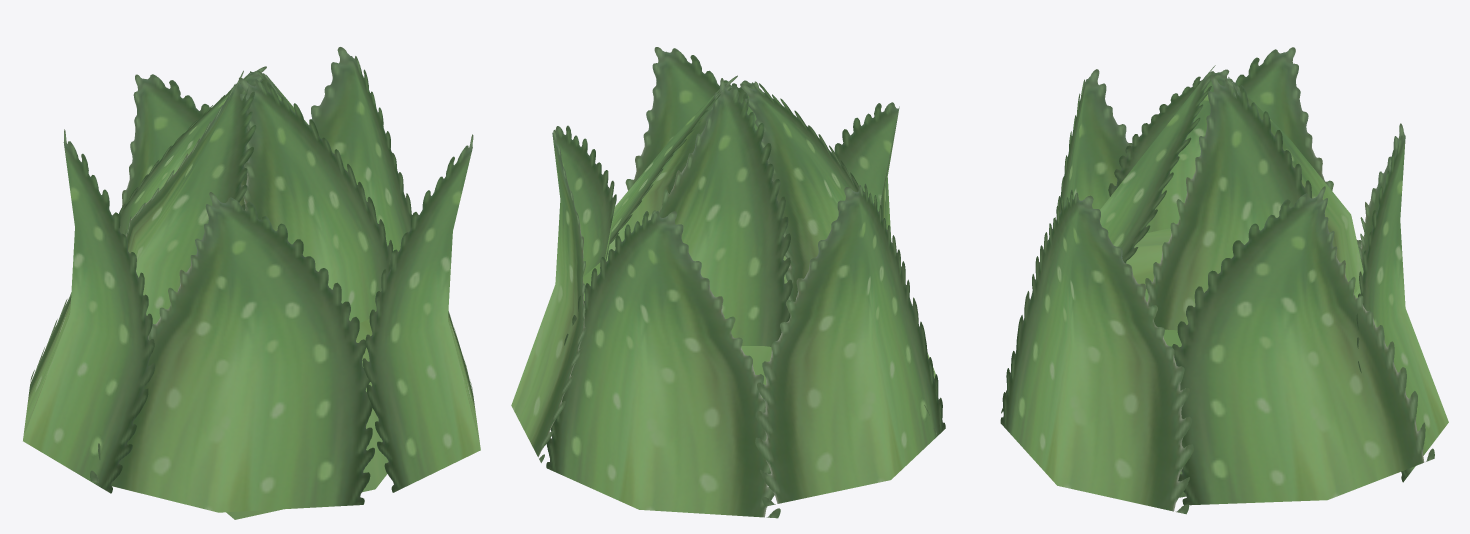
Rendered from SM_Ground_Cactus_B.fbx.
3 renders of one model, left to right at view 1: azimuth 30°, elevation 25°; view 2: azimuth 150°, elevation 25°; view 3: azimuth 270°, elevation 25°, orthographic. The views are drawn at different scales.
Parts seen in each view (by area): view 1: SM_Ground_Cactus_B_LOD0; view 2: SM_Ground_Cactus_B_LOD0; view 3: SM_Ground_Cactus_B_LOD0.
Part boxes in pixels (box(x1,y1,x2,y2)): SM_Ground_Cactus_B_LOD0: box(23, 47, 480, 519); SM_Ground_Cactus_B_LOD0: box(511, 47, 945, 518); SM_Ground_Cactus_B_LOD0: box(1000, 47, 1448, 514).
Size of the model in its own units: 36.93 by 37.27 by 33.86.
1 material, 1 textured.
